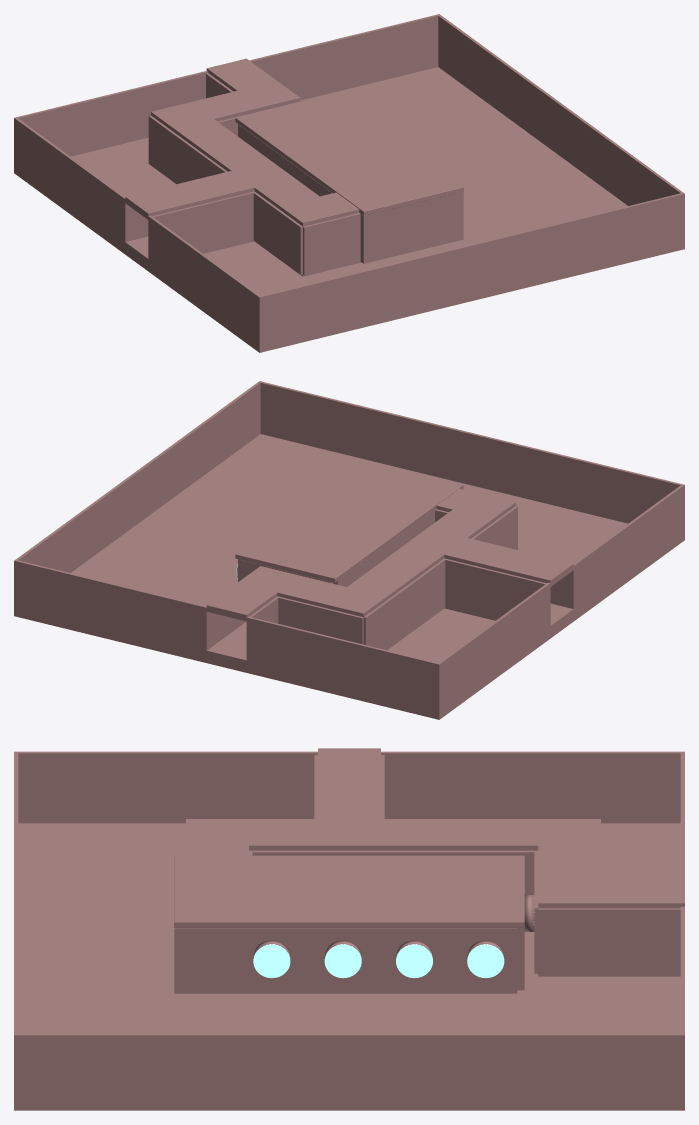
Rendered from ball_lounge.glb.
3 renders of one model, top to bottom at view 1: azimuth 30°, elevation 25°; view 2: azimuth 150°, elevation 25°; view 3: azimuth 270°, elevation 25°, orthographic. The views are drawn at different scales.
Visible parts, largest first — view 1: Module_foundation, Sealed_module_z_plus, Closed_connector_floor_and_roof, Room_continuous_low_roof, Sealed_module_x_plus, Sealed_module_z_minus.001, Sealed_module_z_minus, Sealed_module_x_minus, Sealed_module_x_minus.001, Room_south_wall, Connector_boundary_0_3_3, Connector_boundary_1_5_3 (+7 smaller); view 2: Module_foundation, Sealed_module_z_plus, Closed_connector_floor_and_roof, Room_continuous_low_roof, Sealed_module_x_plus, Sealed_module_z_minus, Sealed_module_z_minus.001, Sealed_module_x_minus, Sealed_module_x_minus.001, Connector_boundary_0_3_2, Connector_boundary_1_2_0, Room_left_wall (+7 smaller); view 3: Module_foundation, Sealed_module_x_plus, Room_continuous_low_roof, Closed_connector_floor_and_roof, Sealed_module_x_minus.001, Sealed_module_x_minus, Right_porthole_04_thick_wall, Connector_boundary_4_0_1, Connector_boundary_4_1_1, Right_porthole_03_thick_wall, Right_porthole_02_thick_wall, Right_porthole_01_thick_wall (+8 smaller).
Boxes of the visible parts, x1,y1,x2,y2 form: Module_foundation: (14,67,684,352); Sealed_module_z_plus: (258,193,684,348); Closed_connector_floor_and_roof: (125,58,361,276); Room_continuous_low_roof: (235,93,463,215); Sealed_module_x_plus: (437,14,684,244); Sealed_module_z_minus.001: (249,14,439,99); Sealed_module_z_minus: (14,71,208,169); Sealed_module_x_minus: (14,117,127,250); Sealed_module_x_minus.001: (148,215,262,348); Room_south_wall: (361,191,463,263); Connector_boundary_0_3_3: (152,192,253,252); Connector_boundary_1_5_3: (303,217,344,275); Module_foundation: (14,434,684,719); Sealed_module_z_plus: (260,381,684,533); Closed_connector_floor_and_roof: (206,488,573,668); Room_continuous_low_roof: (235,460,463,582); Sealed_module_x_plus: (14,381,261,612); Sealed_module_z_minus: (246,616,440,715); Sealed_module_z_minus.001: (14,560,208,658); Sealed_module_x_minus: (436,582,550,715); Sealed_module_x_minus.001: (571,485,684,617); Connector_boundary_0_3_2: (445,559,546,619); Connector_boundary_1_2_0: (387,558,446,648); Room_left_wall: (333,509,435,586); Module_foundation: (14,823,684,1110); Sealed_module_x_plus: (14,1033,684,1105); Room_continuous_low_roof: (174,855,524,927); Closed_connector_floor_and_roof: (186,748,684,976); Sealed_module_x_minus.001: (14,751,317,823); Sealed_module_x_minus: (381,751,684,823); Right_porthole_04_thick_wall: (181,928,307,993); Connector_boundary_4_0_1: (601,908,680,975); Connector_boundary_4_1_1: (538,908,600,975); Right_porthole_03_thick_wall: (307,928,378,993); Right_porthole_02_thick_wall: (379,928,449,993); Right_porthole_01_thick_wall: (450,928,517,993).
Bounding box in the file's own units: 32 × 4.22 × 32.
